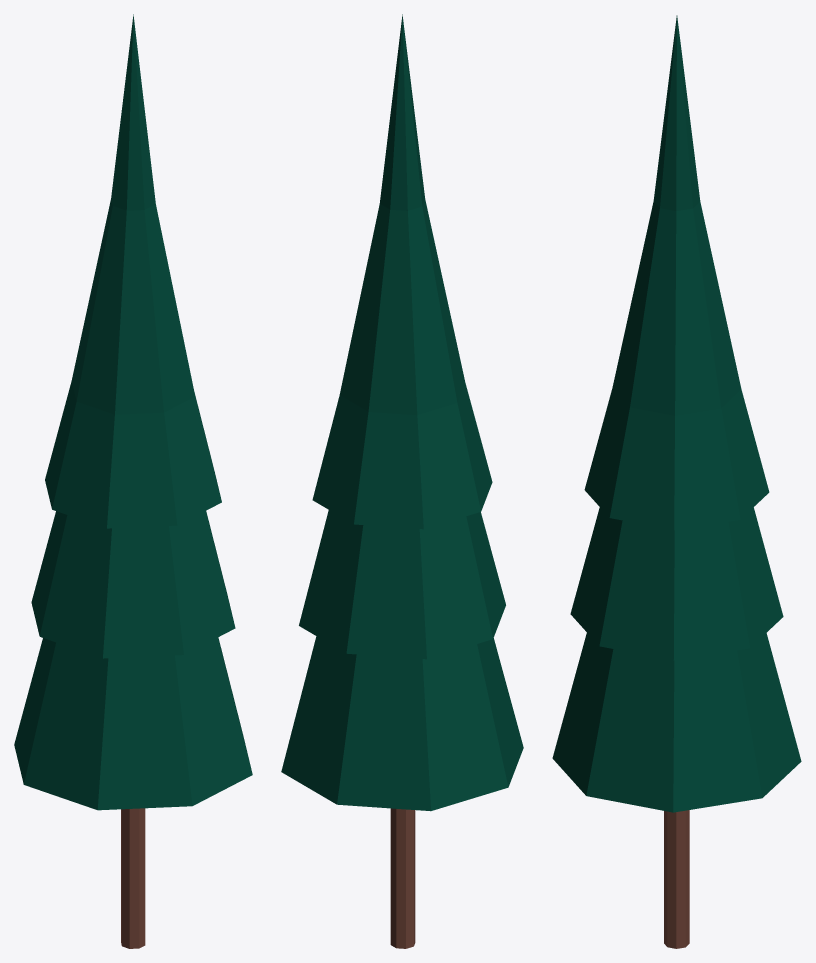
Rendered from tree_1_1.dae.
3 views of the same model, side by side, from view 1: azimuth 30°, elevation 25°; view 2: azimuth 150°, elevation 25°; view 3: azimuth 270°, elevation 25° (orthographic).
Visible parts, largest first — view 1: tree_1_1; view 2: tree_1_1; view 3: tree_1_1.
Boxes of the visible parts, x1,y1,x2,y2 form: tree_1_1: [14, 14, 252, 948]; tree_1_1: [281, 14, 523, 948]; tree_1_1: [552, 15, 801, 948].
Size of the model in its own units: 1.46 by 1.46 by 6.03.
Materials: 1 (1 with a texture image).
